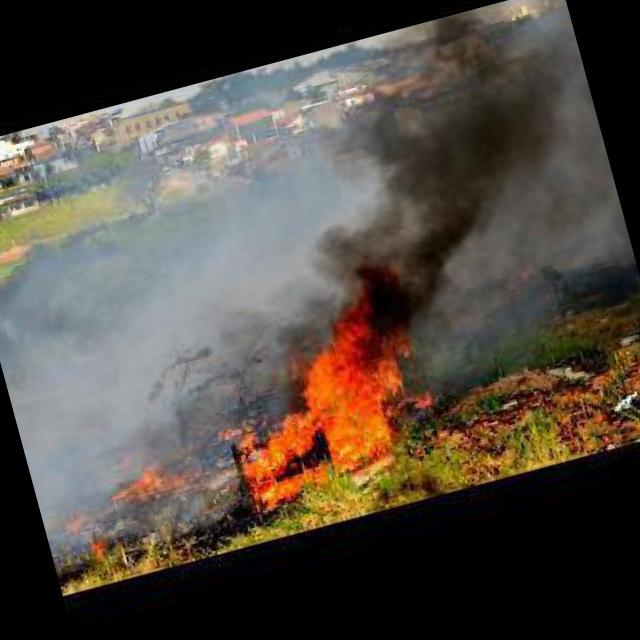fire: (191, 288, 453, 514), (98, 448, 192, 509), (206, 412, 248, 446), (54, 512, 94, 534), (86, 532, 113, 560)
smoke: (236, 0, 640, 376)
